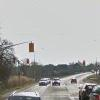Traffic light: (21, 36, 42, 60)
